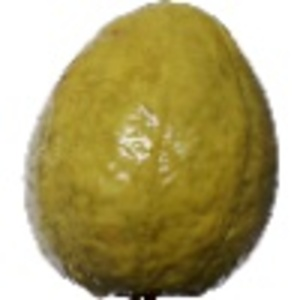goiaba: (10, 5, 290, 292)
